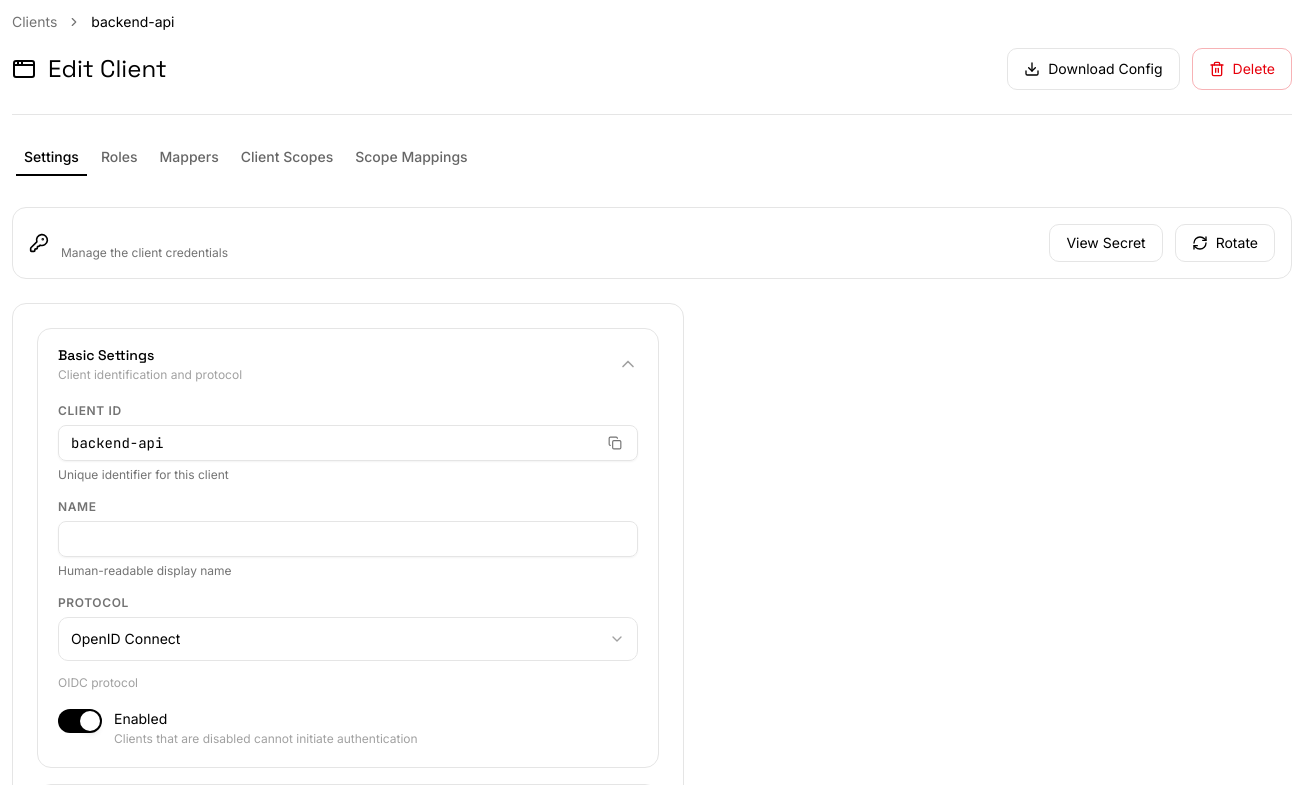
Test: ClientEditPage › lists mappers on the mappers tab
Click the tab "Mappers".
click(189, 157)  # box x1=151 y1=142 x2=228 y2=172
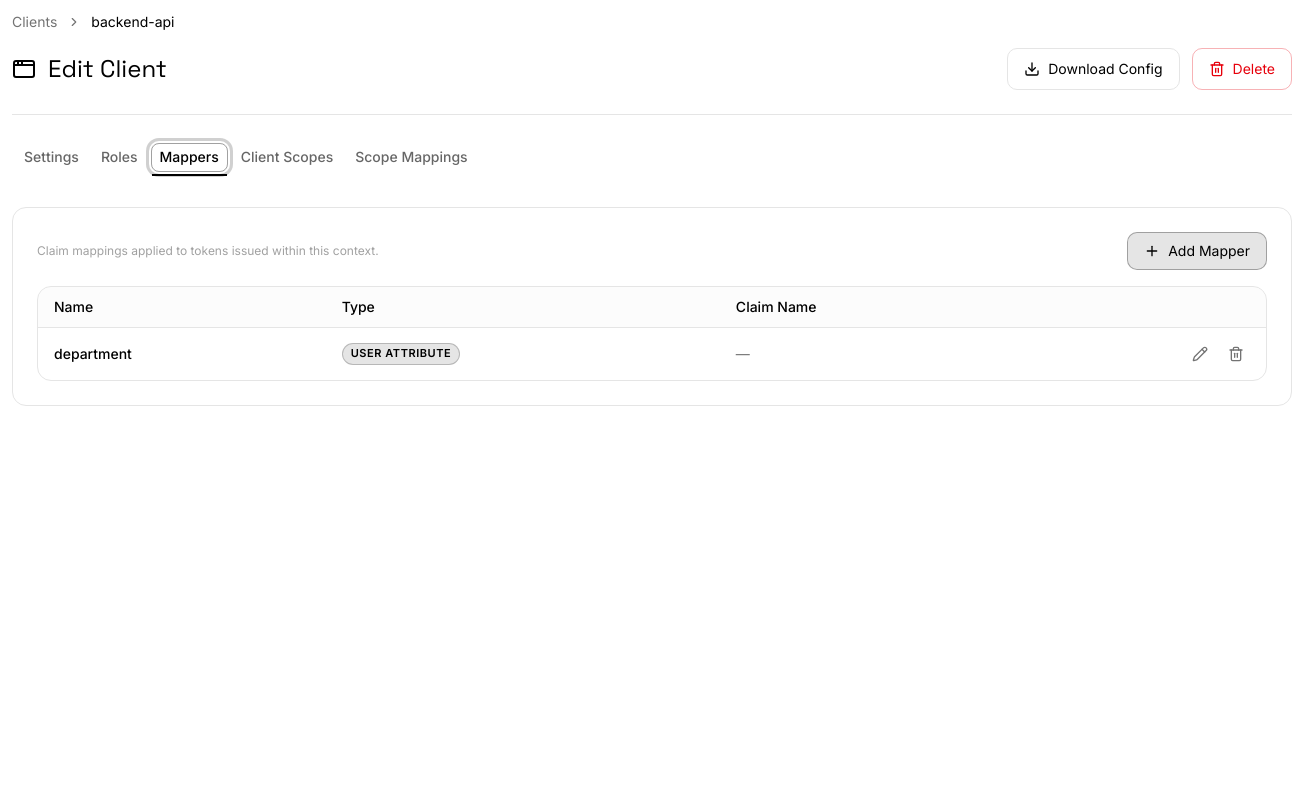
Result: the text "department" is shown at x1=38 y1=327 x2=326 y2=380
Result: the text "User Attribute" is shown at x1=342 y1=343 x2=460 y2=365
